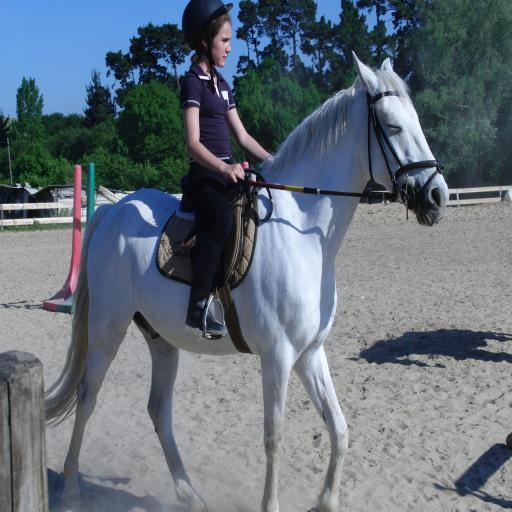horse: (44, 50, 451, 512)
